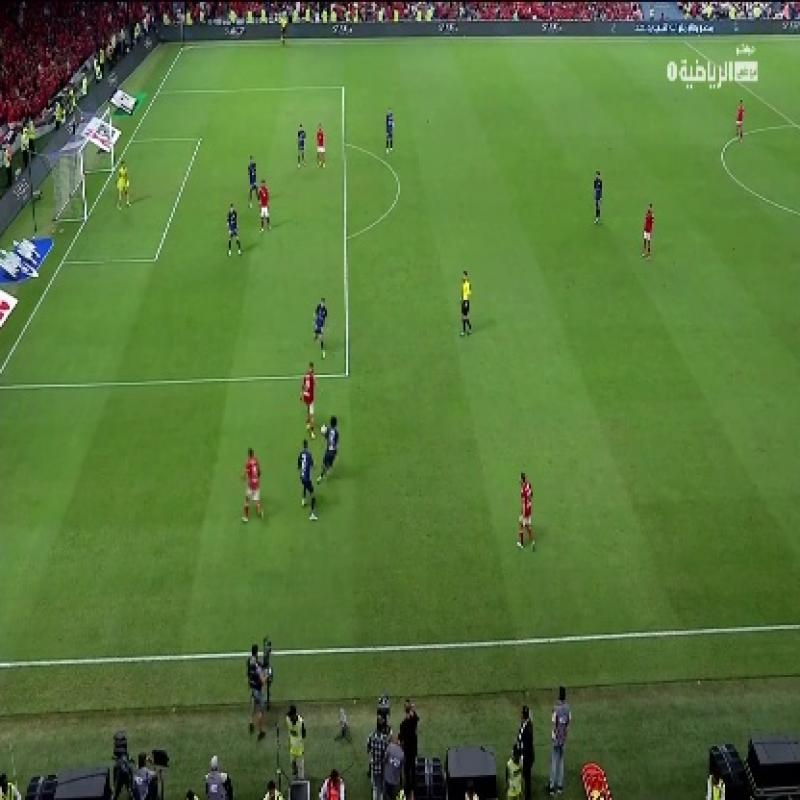1: (178, 38, 190, 46)
10: (336, 134, 346, 148)
11: (340, 228, 348, 242)
12: (338, 364, 350, 382)
13: (673, 31, 697, 50)
14: (788, 117, 798, 131)
2: (152, 85, 168, 99)
3: (124, 132, 139, 151)
4: (55, 252, 68, 266)
7: (194, 132, 204, 146)
8: (146, 248, 160, 267)
9: (338, 78, 346, 92)
c: (710, 152, 742, 186)
